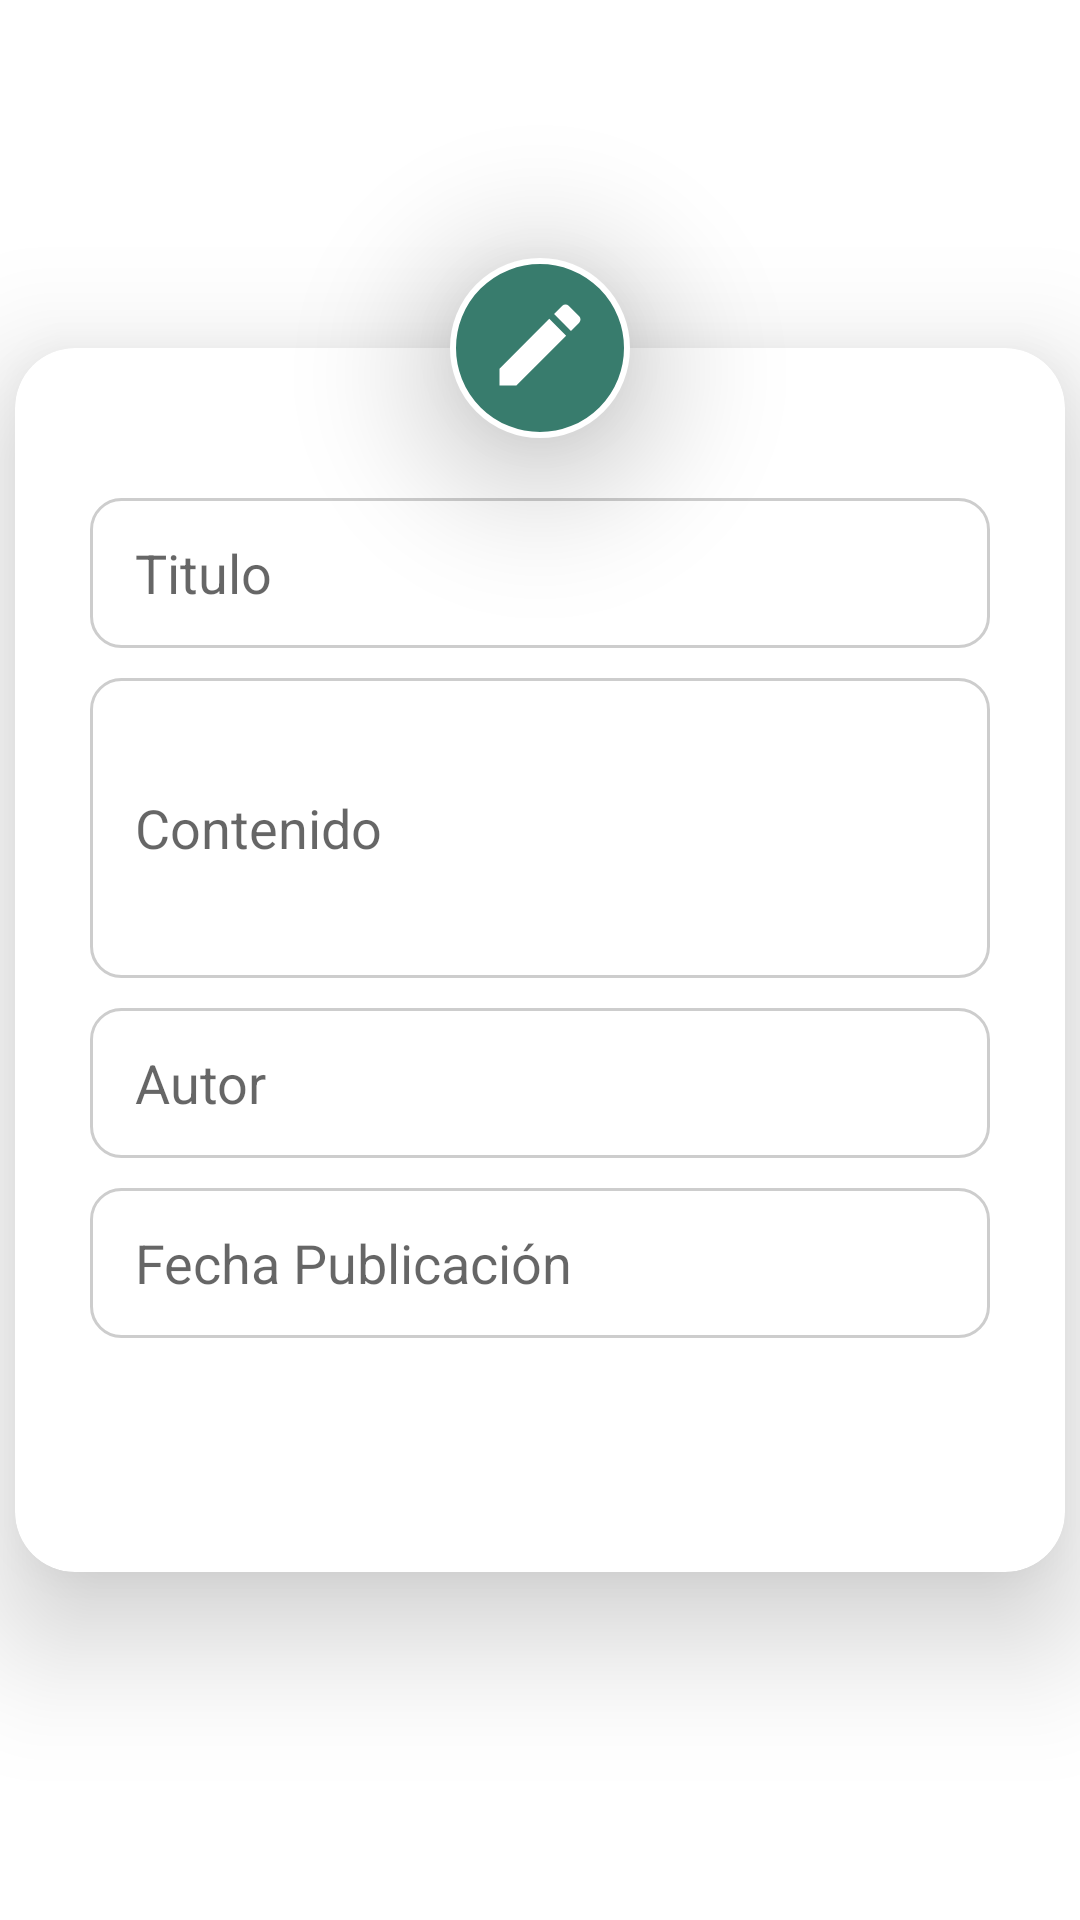

Named icons in this screenshot (1080px x 1920px) and their bounding boxes, bbox=[x1, y1, x2, y2]:
edit: bbox=[450, 258, 630, 438]
